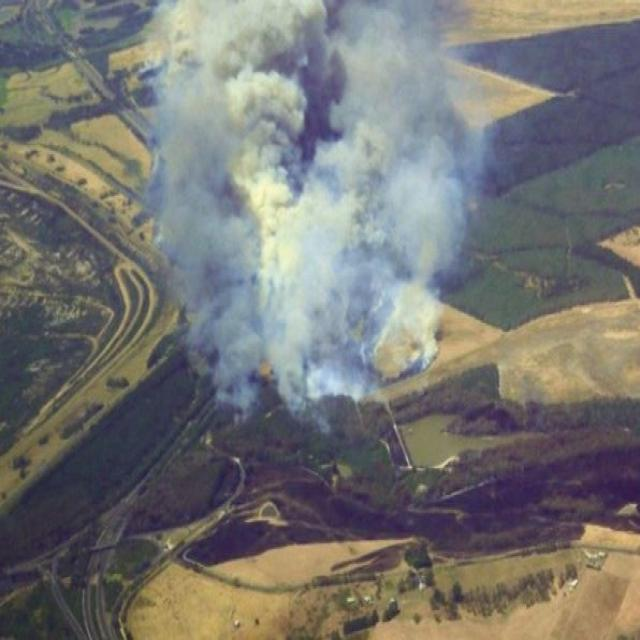Smoke: (150, 0, 488, 394)
